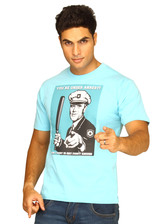clothoes: (21, 60, 153, 207)
